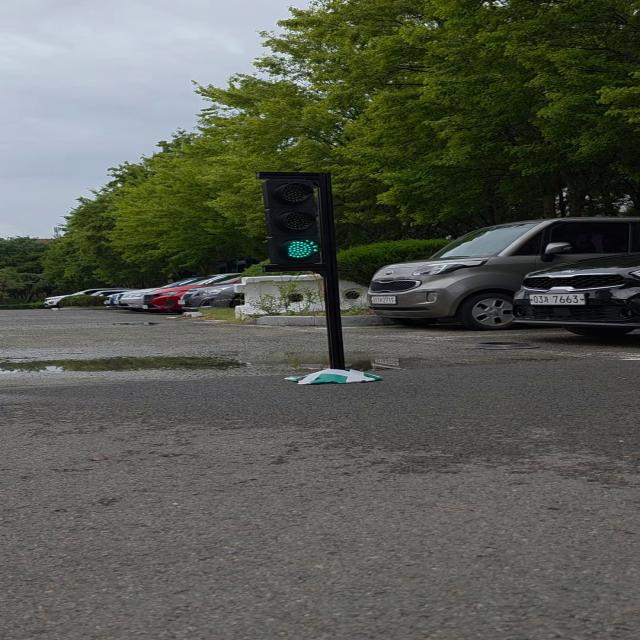green: (264, 174, 333, 268)
